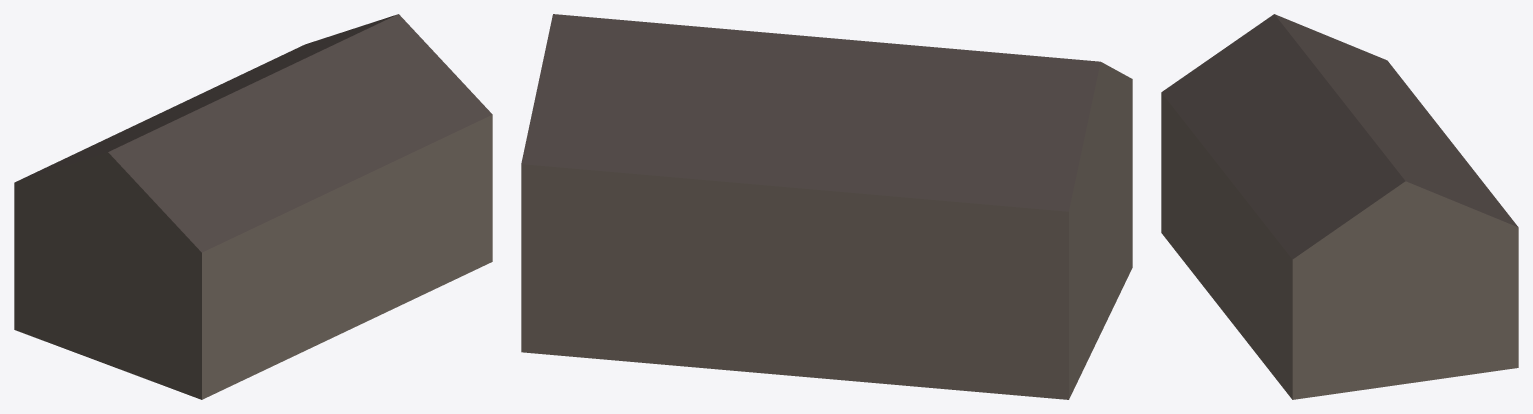
3 views of the same model, side by side, from view 1: azimuth 30°, elevation 25°; view 2: azimuth 150°, elevation 25°; view 3: azimuth 270°, elevation 25° (orthographic). The views are drawn at different scales.
Visible parts, largest first — view 1: HP-w859457381; view 2: HP-w859457381; view 3: HP-w859457381.
Boxes of the visible parts, box(x1,y1,x2,y2) form: HP-w859457381: box(14, 14, 492, 399); HP-w859457381: box(521, 14, 1132, 399); HP-w859457381: box(1161, 14, 1518, 399).
Bounding box in the file's own units: 18.28 × 8.67 × 13.86.
